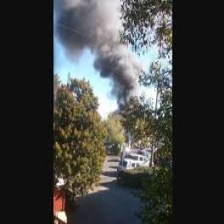smoke: (59, 1, 130, 99)
